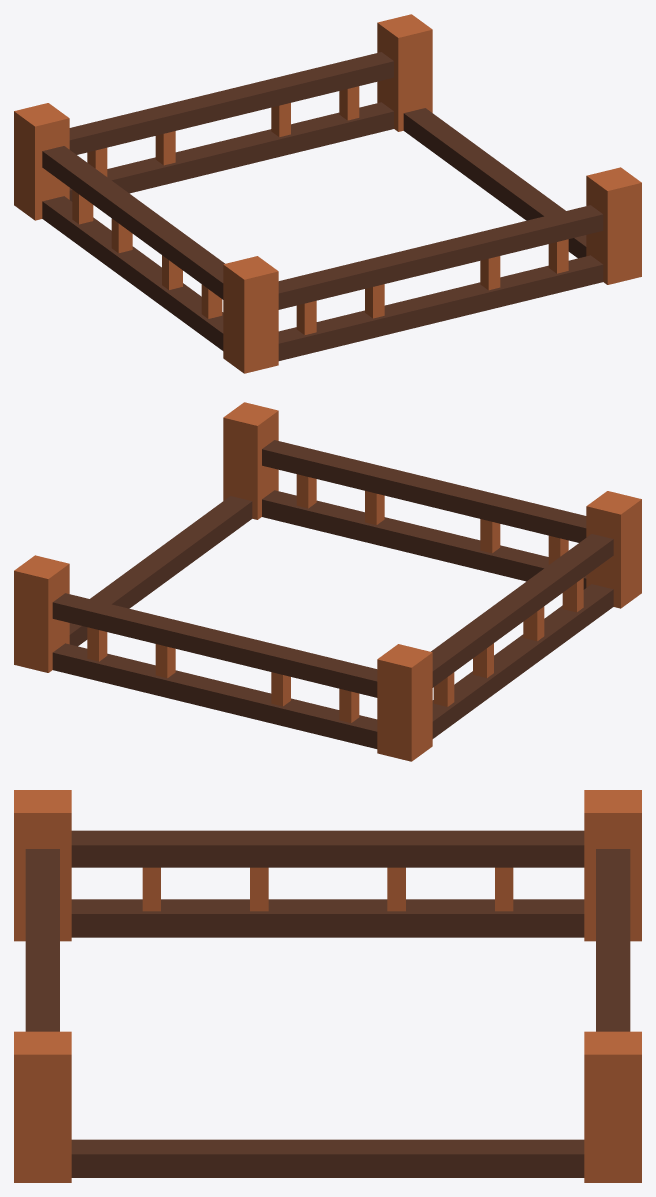
The model's file is pit_02.fbx.
3 views of the same model, one above another, from view 1: azimuth 30°, elevation 25°; view 2: azimuth 150°, elevation 25°; view 3: azimuth 270°, elevation 25° (orthographic). The views are drawn at different scales.
Parts seen in each view (by area): view 1: Cube.017; view 2: Cube.017; view 3: Cube.017.
Boxes of the visible parts, box(x1,y1,x2,y2) form: Cube.017: box(14, 14, 641, 373); Cube.017: box(14, 402, 641, 761); Cube.017: box(14, 790, 641, 1182).
Bounding box in the file's own units: 898 × 203 × 901.
